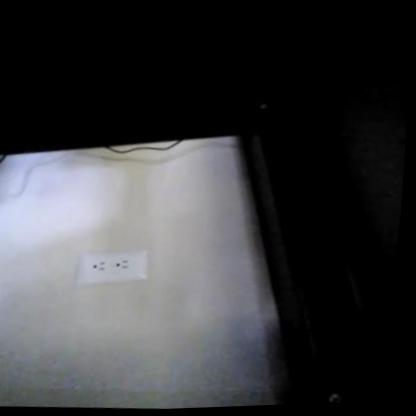OUTLET: (77, 246, 150, 284)
